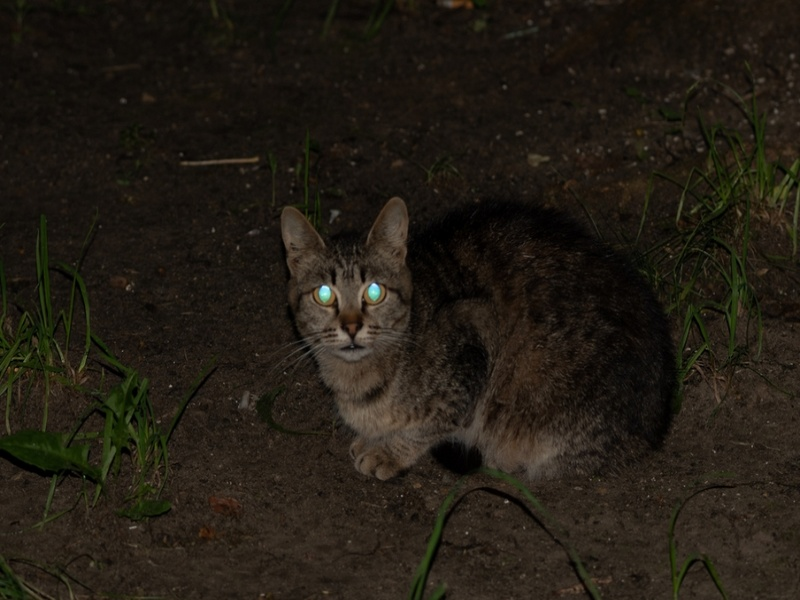cat: (277, 194, 683, 487)
